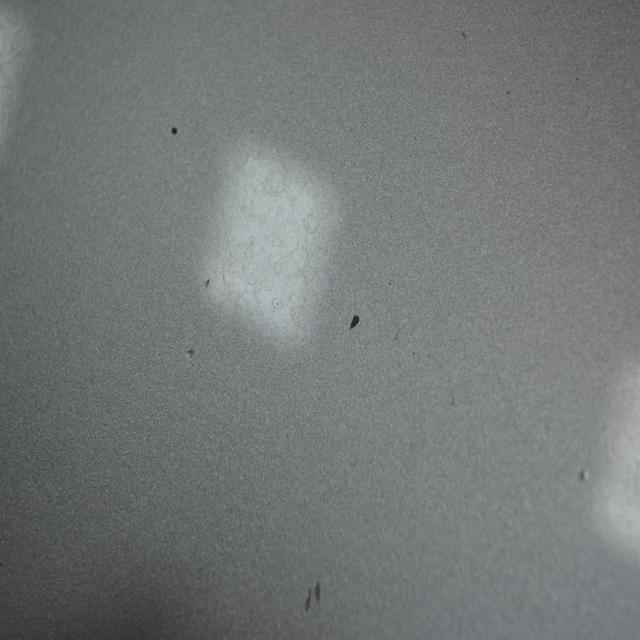dirt: (304, 578, 324, 615), (346, 310, 364, 332), (167, 121, 183, 143), (578, 466, 592, 486), (185, 342, 197, 362), (202, 268, 210, 290)
water marks: (217, 243, 331, 348), (224, 140, 329, 244)
